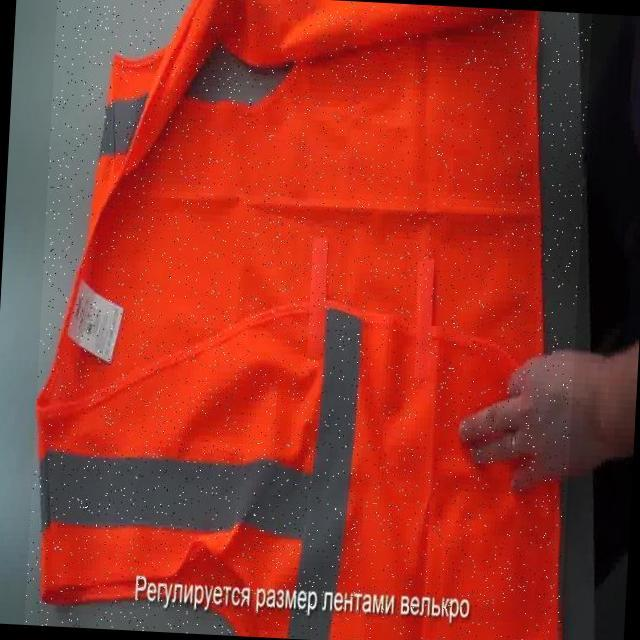Safety Vest: (25, 0, 594, 640)
bare-arms: (455, 339, 621, 536)
